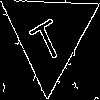T: (24, 10, 68, 64)
